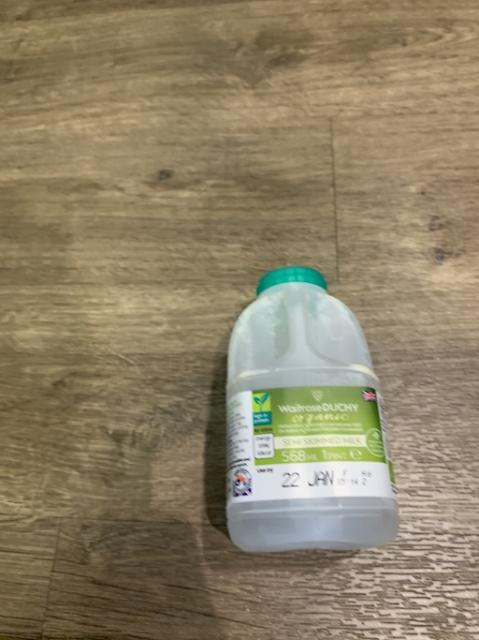plastic: (226, 265, 397, 550)
